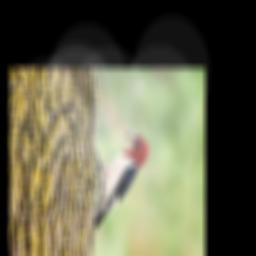Woodpecker: (95, 129, 149, 228)
